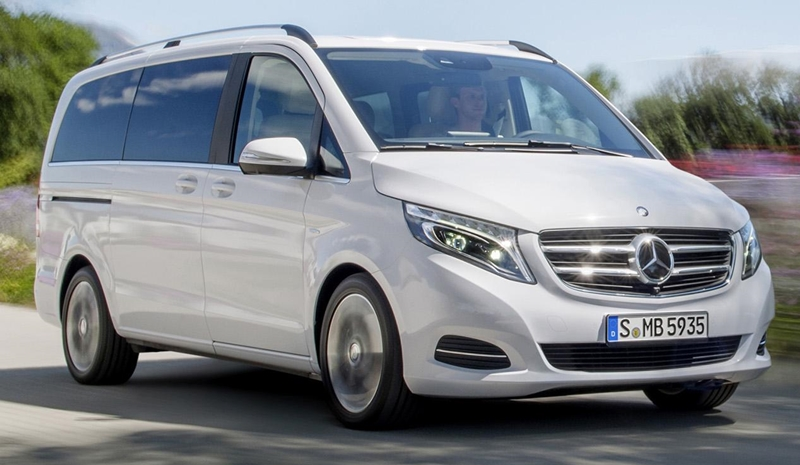van: (33, 22, 775, 433)
